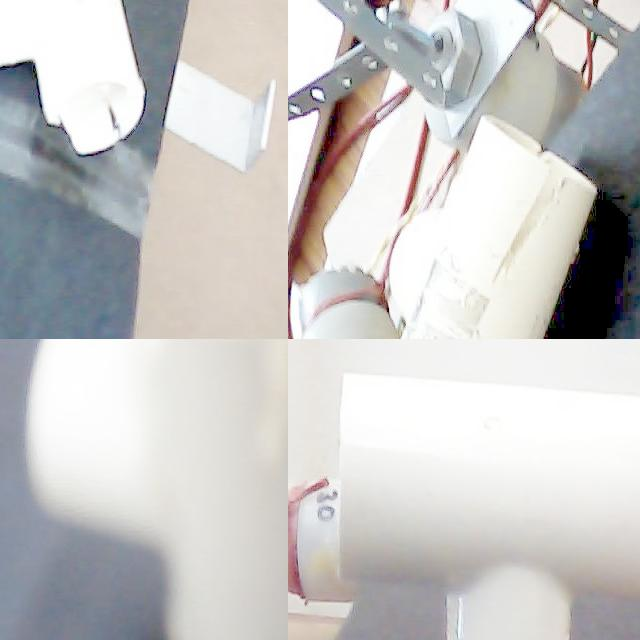Defective: (41, 42, 145, 167), (404, 215, 506, 339), (492, 148, 575, 279), (228, 339, 288, 466)
T Joint: (335, 374, 640, 640), (27, 339, 288, 640), (379, 116, 596, 339)
